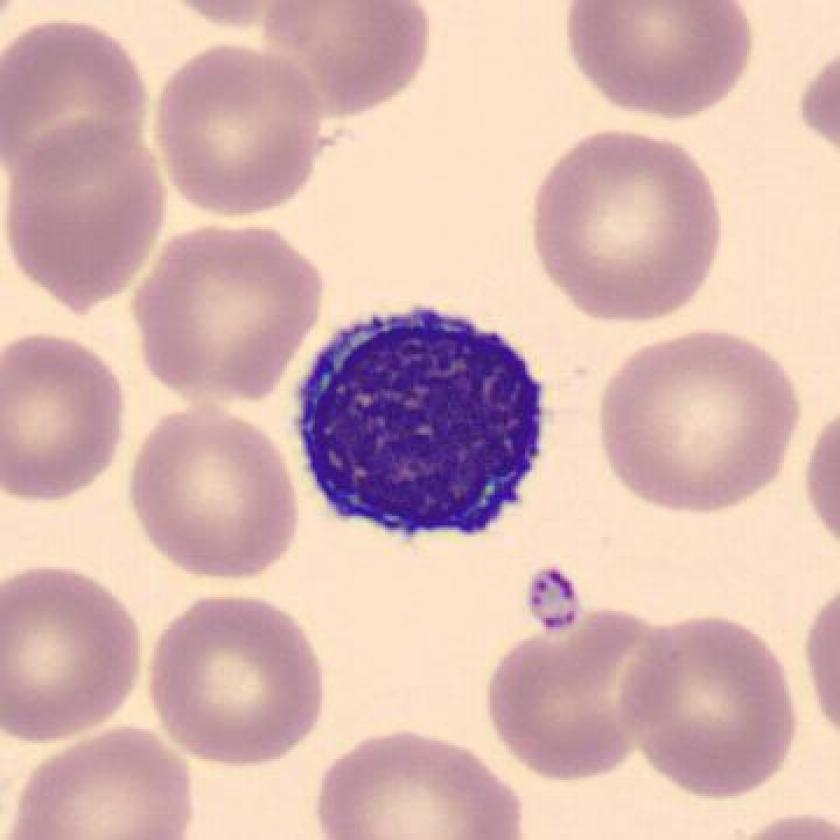lymphocyte: (279, 286, 561, 556)
